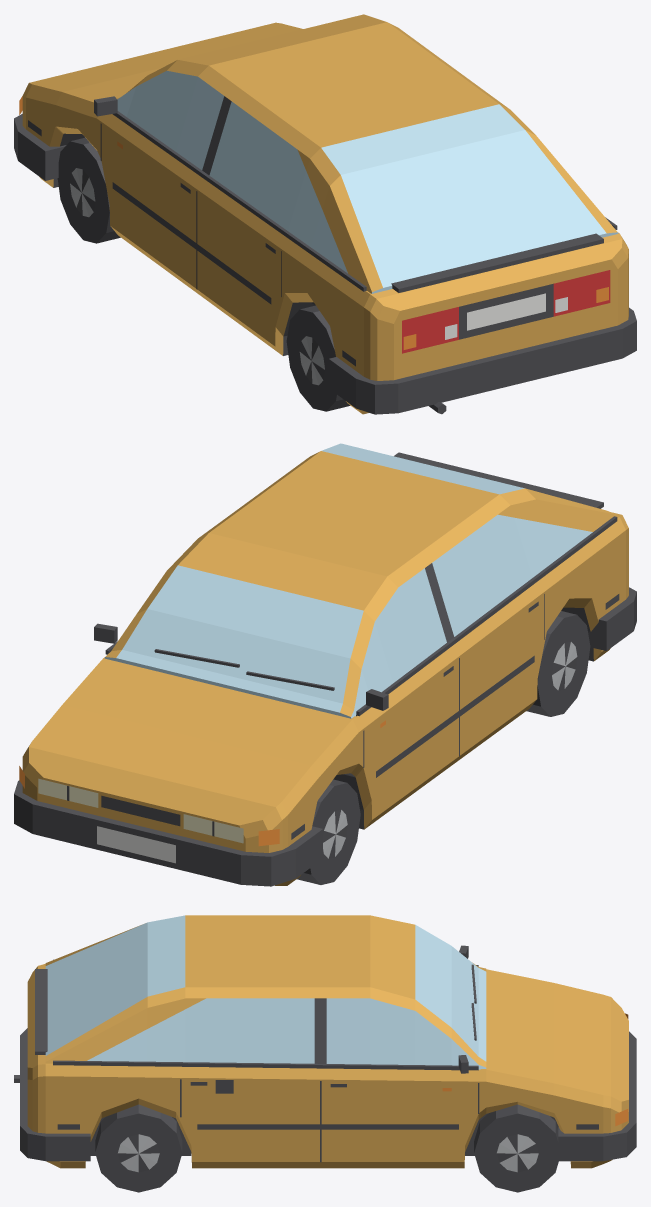
Rendered from kadett.glb.
3 views of the same model, one above another, from view 1: azimuth 30°, elevation 25°; view 2: azimuth 150°, elevation 25°; view 3: azimuth 270°, elevation 25° (orthographic). The views are drawn at different scales.
Parts seen in each view (by area): view 1: body, door_FL, wheel_FL, wheel_RL; view 2: body, door_FL, wheel_RL, wheel_FL; view 3: body, door_FR, wheel_RR, wheel_FR.
Boxes of the visible parts, left/top/right/bottom form: body: left=14, top=14, right=636, bottom=414; door_FL: left=101, top=71, right=227, bottom=298; wheel_FL: left=57, top=137, right=120, bottom=243; wheel_RL: left=286, top=305, right=350, bottom=411; body: left=14, top=443, right=636, bottom=886; door_FL: left=351, top=565, right=459, bottom=829; wheel_RL: left=526, top=611, right=590, bottom=716; wheel_FL: left=297, top=779, right=360, bottom=884; body: left=14, top=915, right=636, bottom=1168; door_FR: left=320, top=998, right=478, bottom=1168; wheel_RR: left=95, top=1104, right=182, bottom=1192; wheel_FR: left=474, top=1104, right=558, bottom=1192.
Size of the model in its own units: 1.85 by 1.4 by 4.14.
